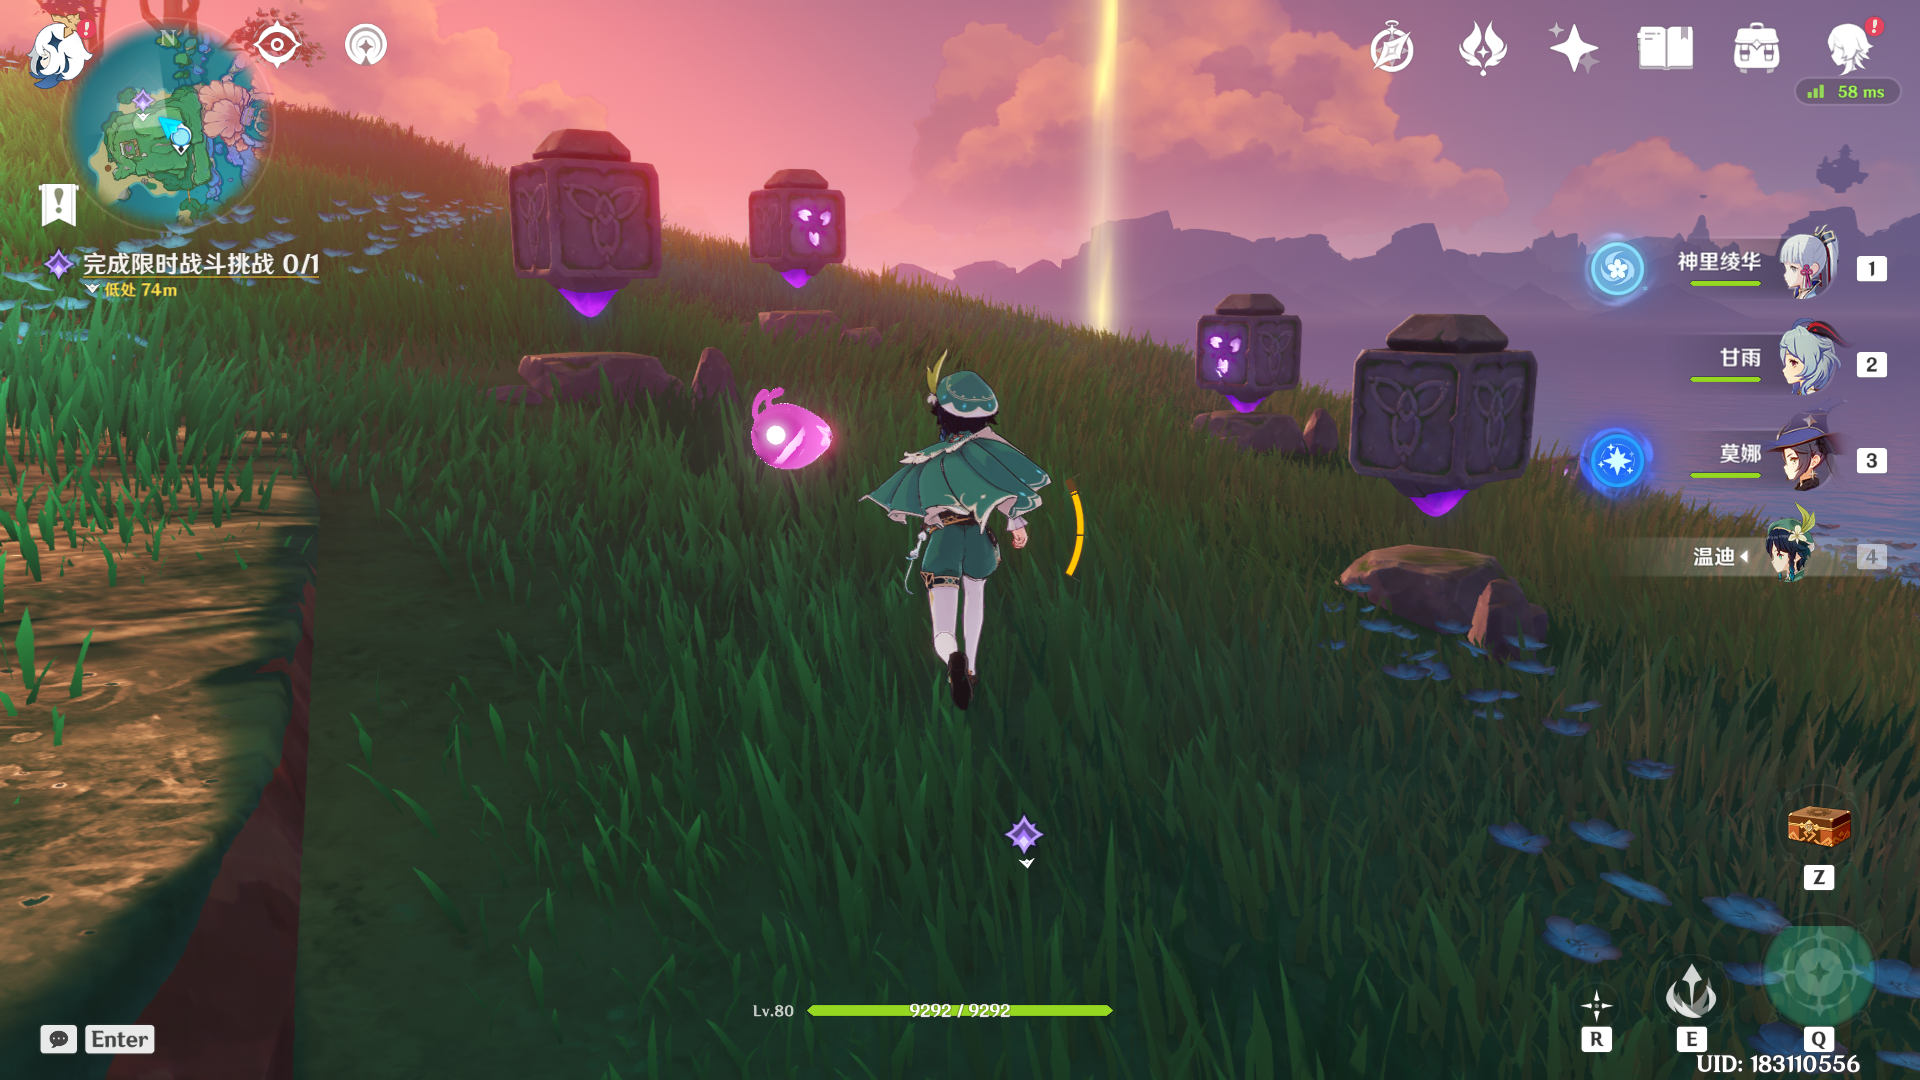character: (829, 369, 1108, 756)
